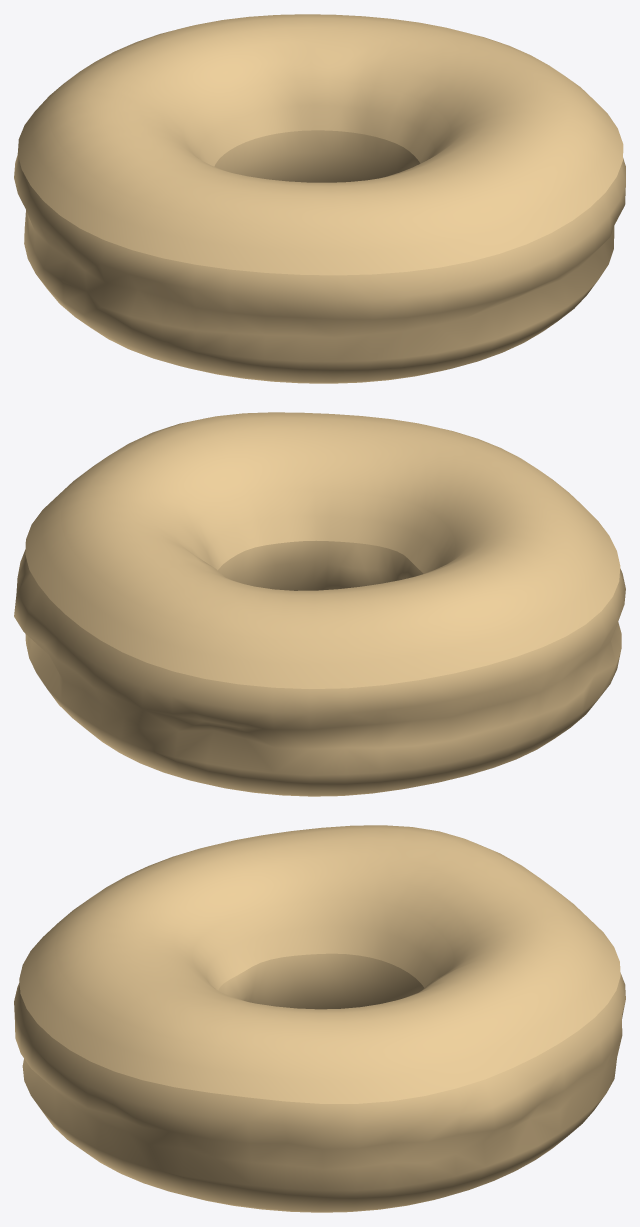
The model's file is donut_model.gltf.
The picture shows the model from 3 angles, top to bottom: view 1: azimuth 30°, elevation 25°; view 2: azimuth 150°, elevation 25°; view 3: azimuth 270°, elevation 25°; orthographic projection.
Parts seen in each view (by area): view 1: donut; view 2: donut; view 3: donut.
Part boxes in pixels (x1,y1,x2,y2): donut: (14,14,625,383); donut: (14,412,625,796); donut: (14,825,625,1212).
Bounding box in the file's own units: 0.1451 × 0.0504 × 0.1443.
